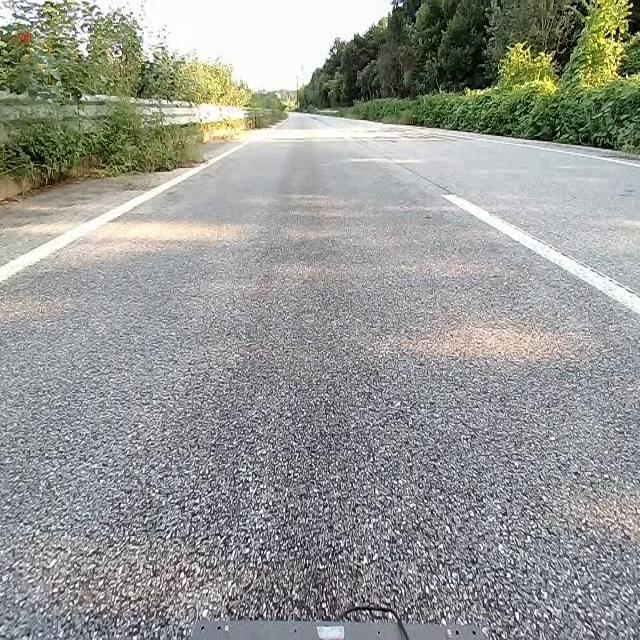Lane: (0, 136, 254, 289), (0, 143, 247, 284), (438, 185, 640, 323), (442, 194, 639, 315)
